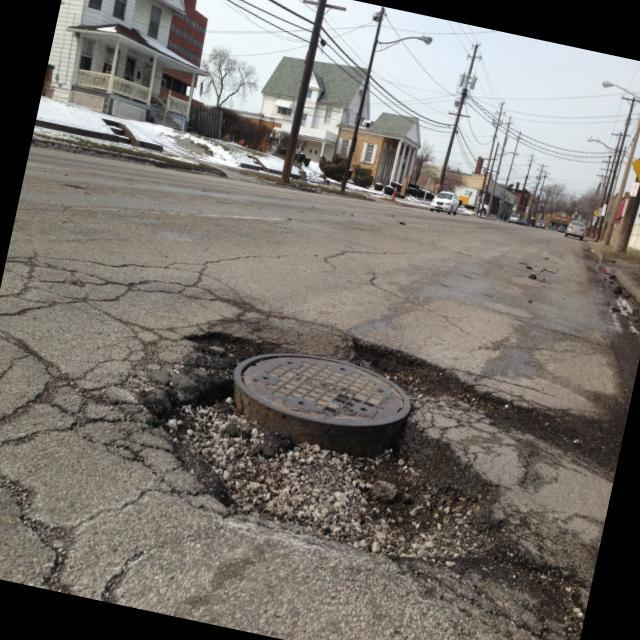Pothole: (125, 359, 505, 584), (338, 329, 487, 420), (175, 308, 264, 372)
